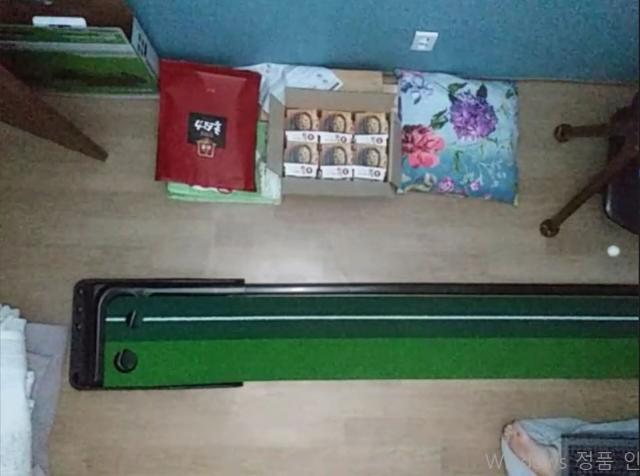golf_ball: (607, 244, 620, 259)
green_zone: (104, 296, 639, 385)
hole: (113, 348, 138, 374), (125, 309, 143, 330)
